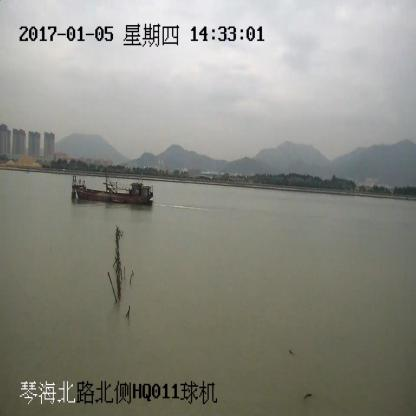Fishing Boat: (72, 169, 154, 206)
